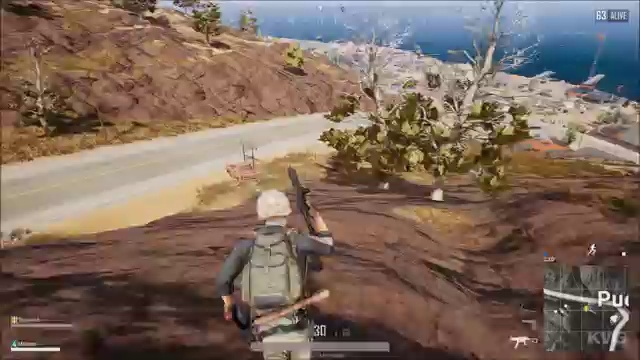Player: (191, 161, 390, 318)
